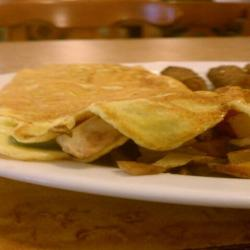omelette: (2, 63, 192, 164)
